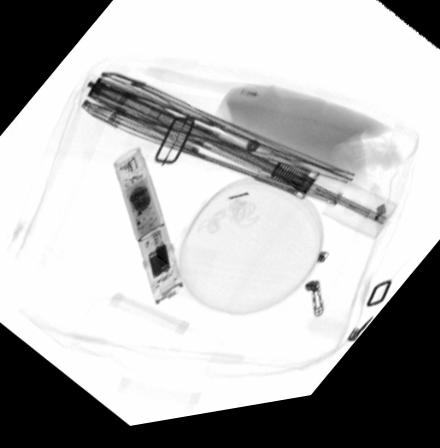Baton: (110, 150, 187, 311)
